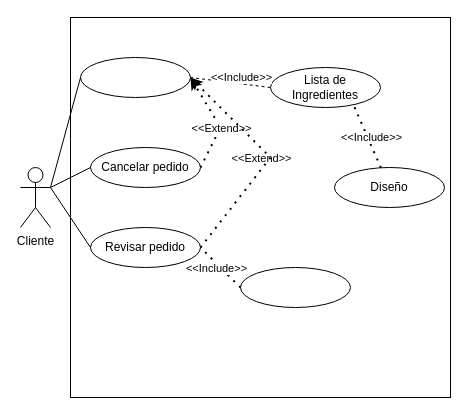
Image size: 468x415. Some labels were removed from this diagram. The centre of each missing label's shape, as x and y in pixels:
"Creacion de Pedido" belongs at [135,77].
"Fecha y Hora Entrega" belongs at [295,287].
